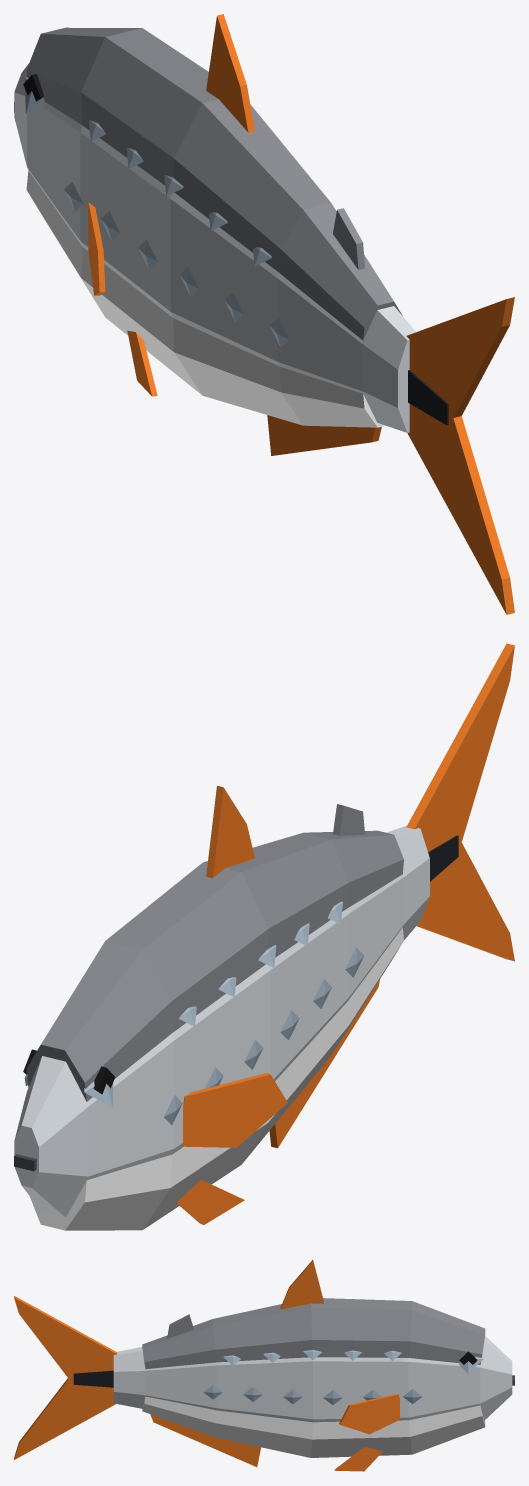
Rendered from piracanjuba.glb.
3 views of the same model, one above another, from view 1: azimuth 30°, elevation 25°; view 2: azimuth 150°, elevation 25°; view 3: azimuth 270°, elevation 25° (orthographic). The views are drawn at different scales.
Visible parts, largest first — view 1: corpo; view 2: corpo; view 3: corpo.
Part boxes in pixels (x1,y1,x2,y2): corpo: (14,14,514,614); corpo: (14,643,514,1230); corpo: (14,1260,514,1471).
Bounding box in the file's own units: 0.2234 × 0.4542 × 1.
